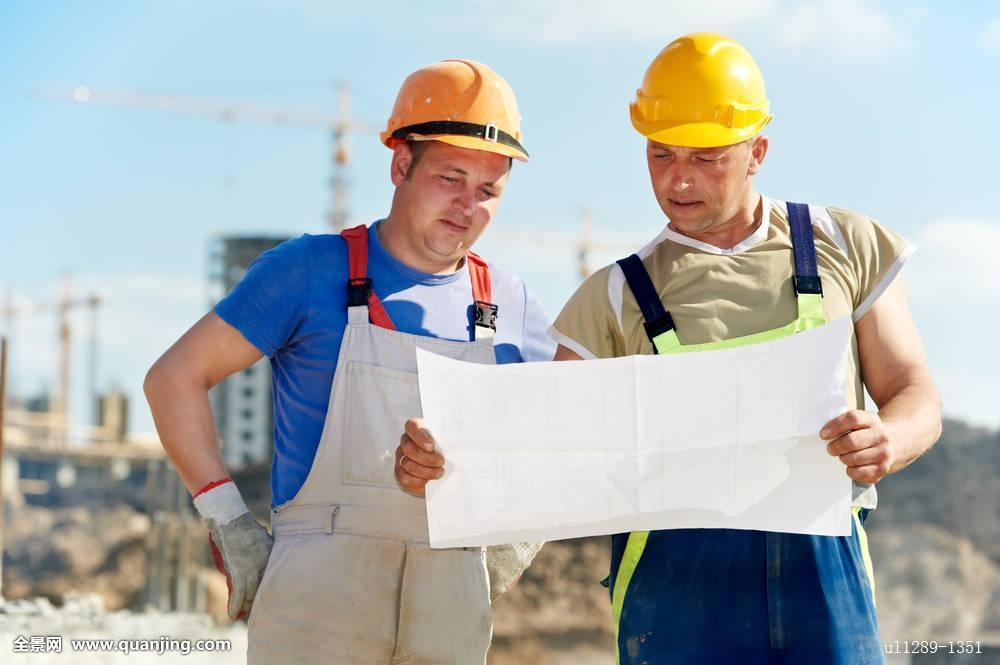yellow: (372, 51, 537, 268), (626, 30, 772, 234)
